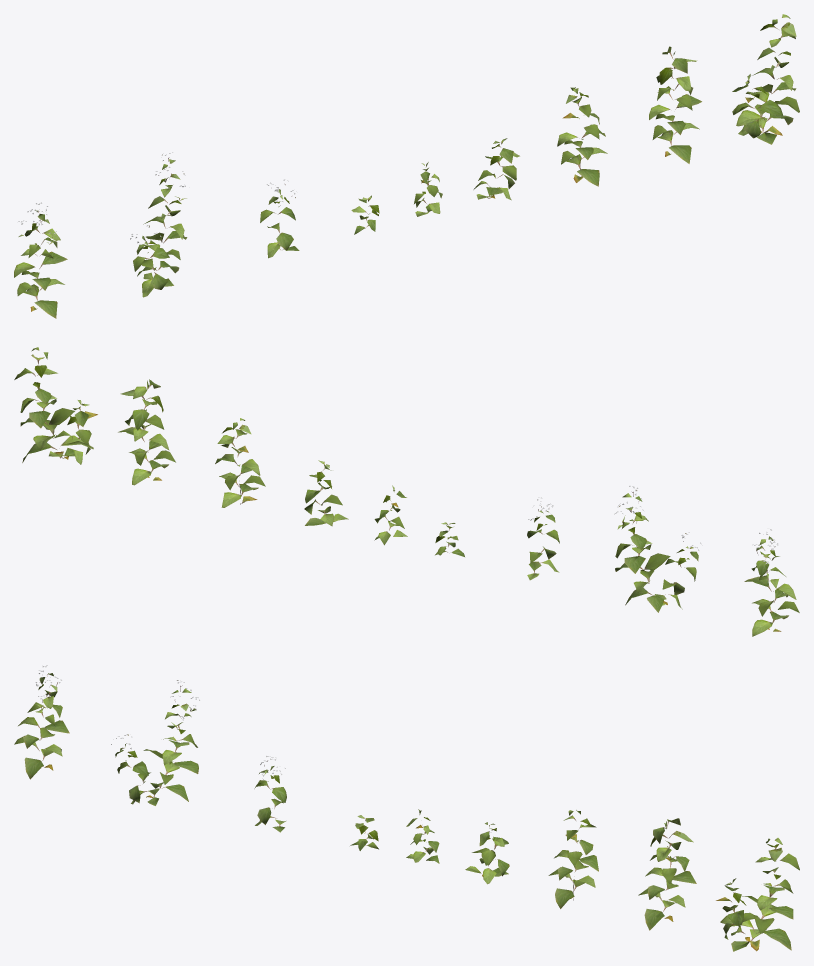
File: shrub_01.glb
The picture shows the model from 3 angles, top to bottom: view 1: azimuth 30°, elevation 25°; view 2: azimuth 150°, elevation 25°; view 3: azimuth 330°, elevation 25°; orthographic projection. The views are drawn at different scales.
Visible parts, largest first — view 1: shrub_01_a; view 2: shrub_01_a; view 3: shrub_01_a.
Part boxes in pixels (x1=…): shrub_01_a: x1=14, y1=14, x2=799, y2=318; shrub_01_a: x1=14, y1=347, x2=799, y2=636; shrub_01_a: x1=14, y1=665, x2=799, y2=951.
Bounding box in the file's own units: 2.59 × 0.3952 × 0.2068.
Materials: 1 (1 with a texture image).
